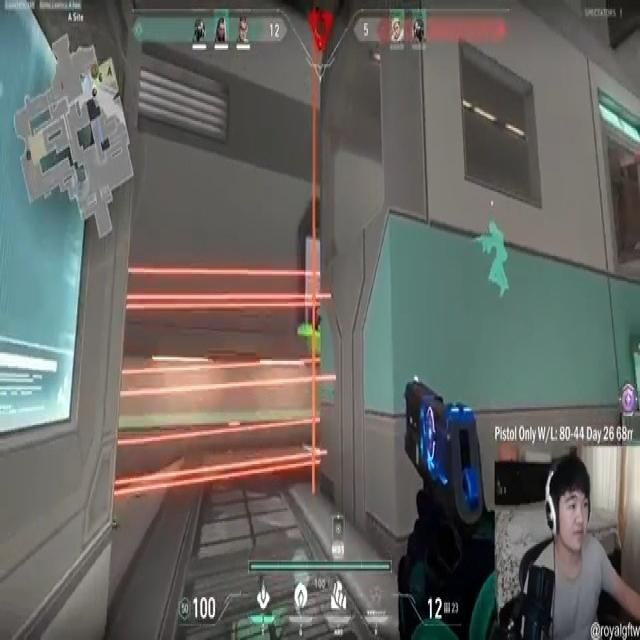ally behind wall: (474, 212, 514, 304)
